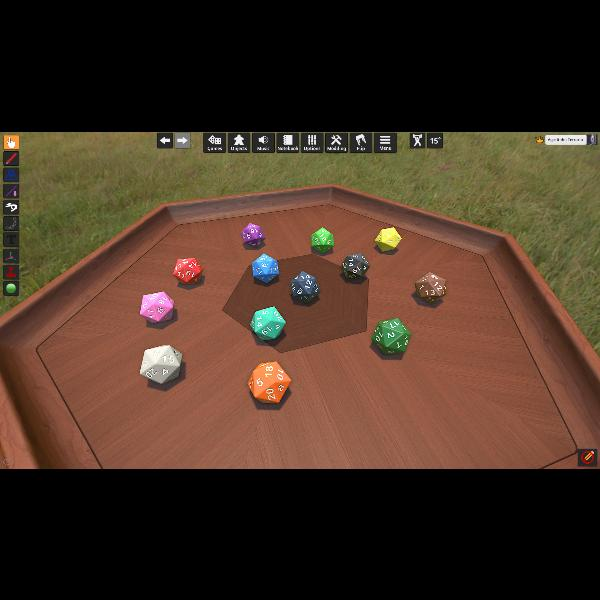d20: (248, 361, 292, 403), (140, 344, 182, 384), (250, 304, 288, 340), (371, 318, 407, 354), (140, 291, 174, 323), (415, 272, 445, 304), (250, 253, 278, 283), (290, 272, 318, 302), (341, 253, 369, 281), (174, 258, 204, 284), (375, 227, 399, 251), (241, 222, 265, 246), (312, 227, 334, 253)
